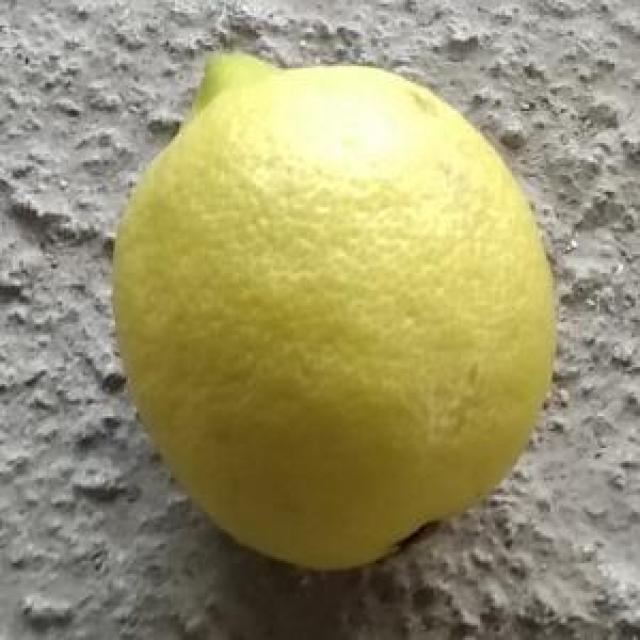lemon: (108, 48, 560, 577)
